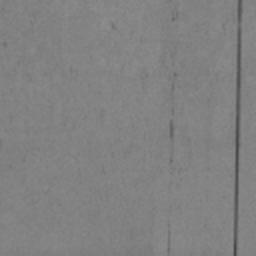Scratches: (232, 0, 243, 256), (169, 121, 174, 139)
